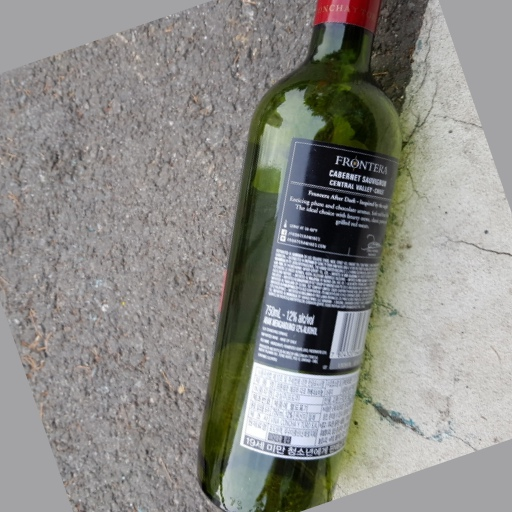Glass_2: (194, 6, 404, 512)
